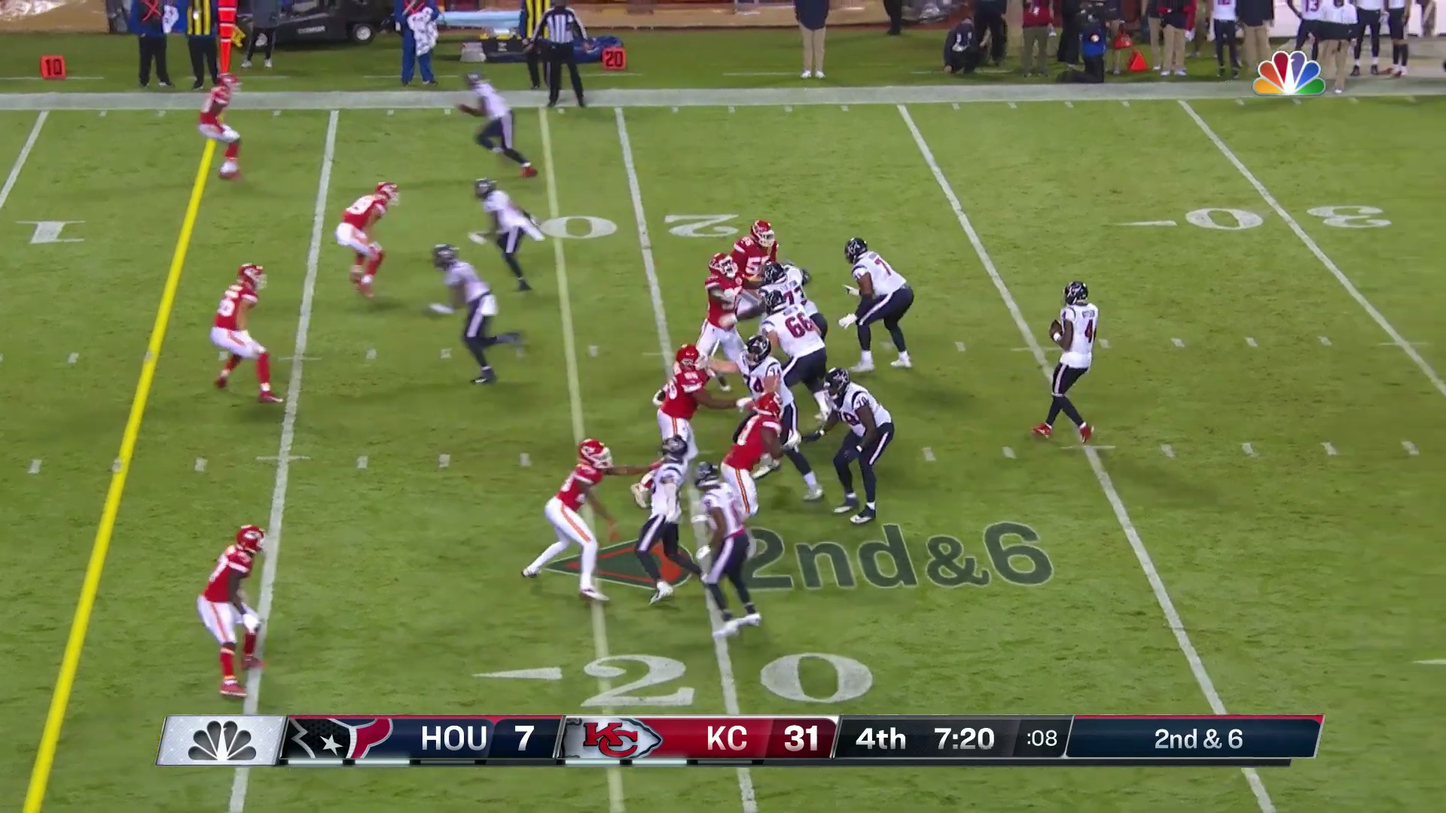Player: (197, 521, 266, 703), (694, 460, 758, 625), (827, 368, 893, 524), (632, 436, 694, 601), (211, 264, 277, 401), (845, 238, 912, 369), (734, 335, 797, 471), (758, 262, 825, 371), (708, 220, 775, 324), (654, 344, 708, 464), (697, 251, 749, 368)
